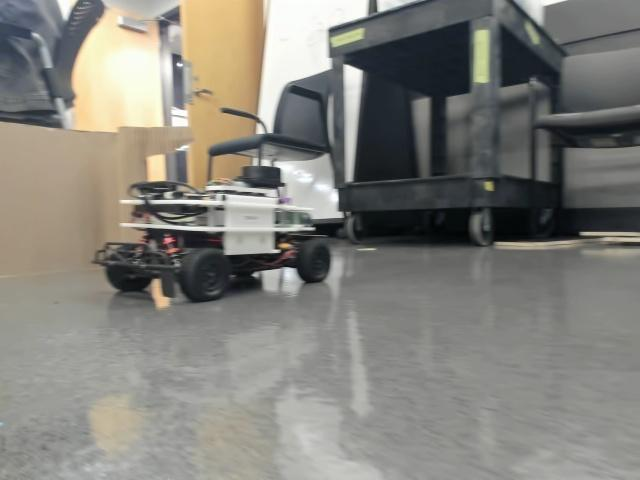Car: (90, 167, 332, 302)
